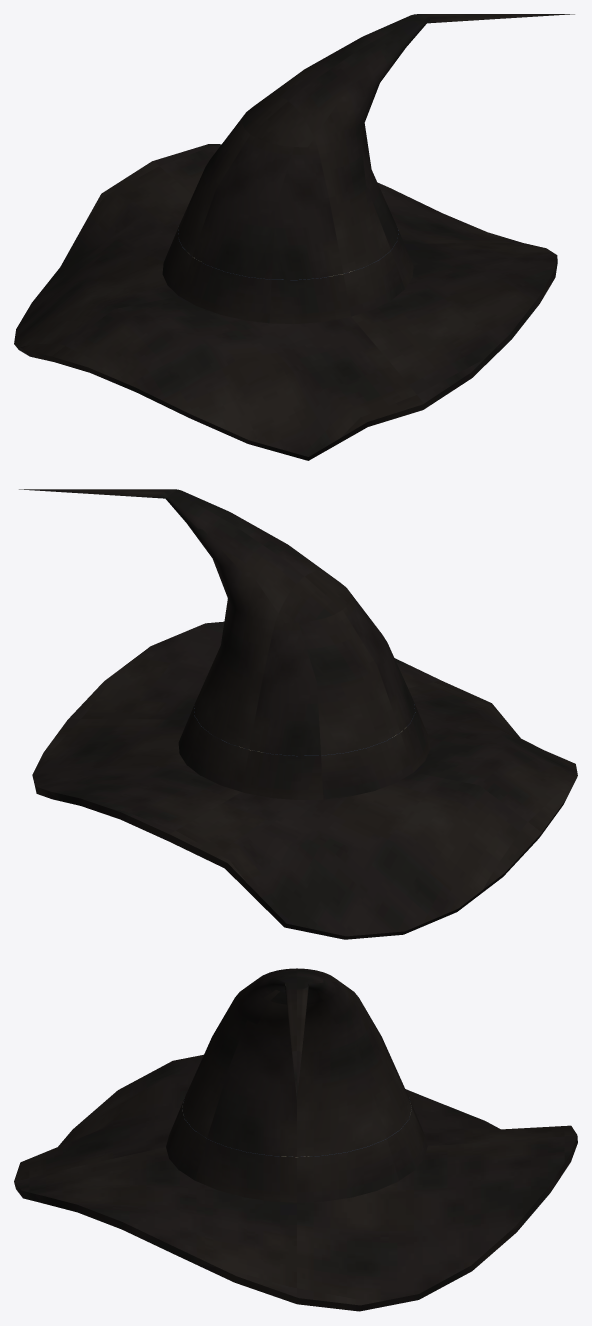
Rendered from scarecrow_hat.glb.
3 renders of one model, top to bottom at view 1: azimuth 30°, elevation 25°; view 2: azimuth 150°, elevation 25°; view 3: azimuth 270°, elevation 25°, orthographic. The views are drawn at different scales.
Visible parts, largest first — view 1: scarecrow_hat; view 2: scarecrow_hat; view 3: scarecrow_hat.
Part boxes in pixels (x1,y1,x2,y2): scarecrow_hat: (14, 14, 574, 460); scarecrow_hat: (19, 489, 577, 939); scarecrow_hat: (14, 968, 577, 1311).
Bounding box in the file's own units: 0.9453 × 0.5166 × 0.8429.
2 materials, 2 textured.
